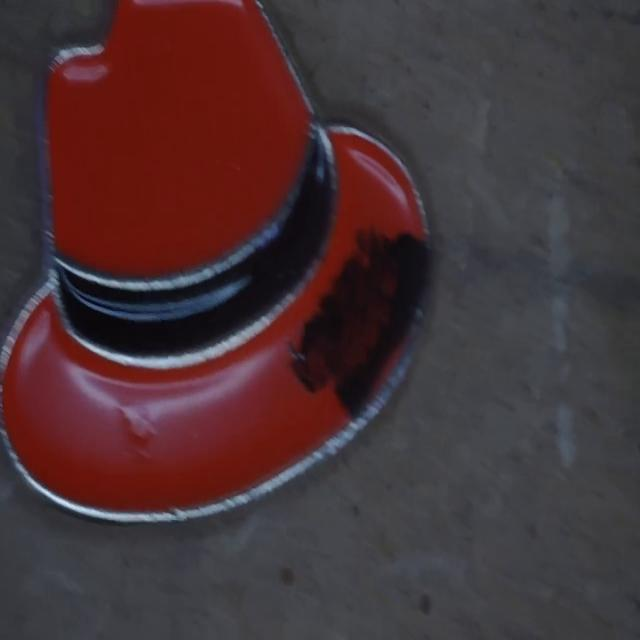Hatband: (55, 127, 335, 367)
Paint_Leak: (292, 231, 428, 416)
RedHatPin: (0, 0, 428, 520)
